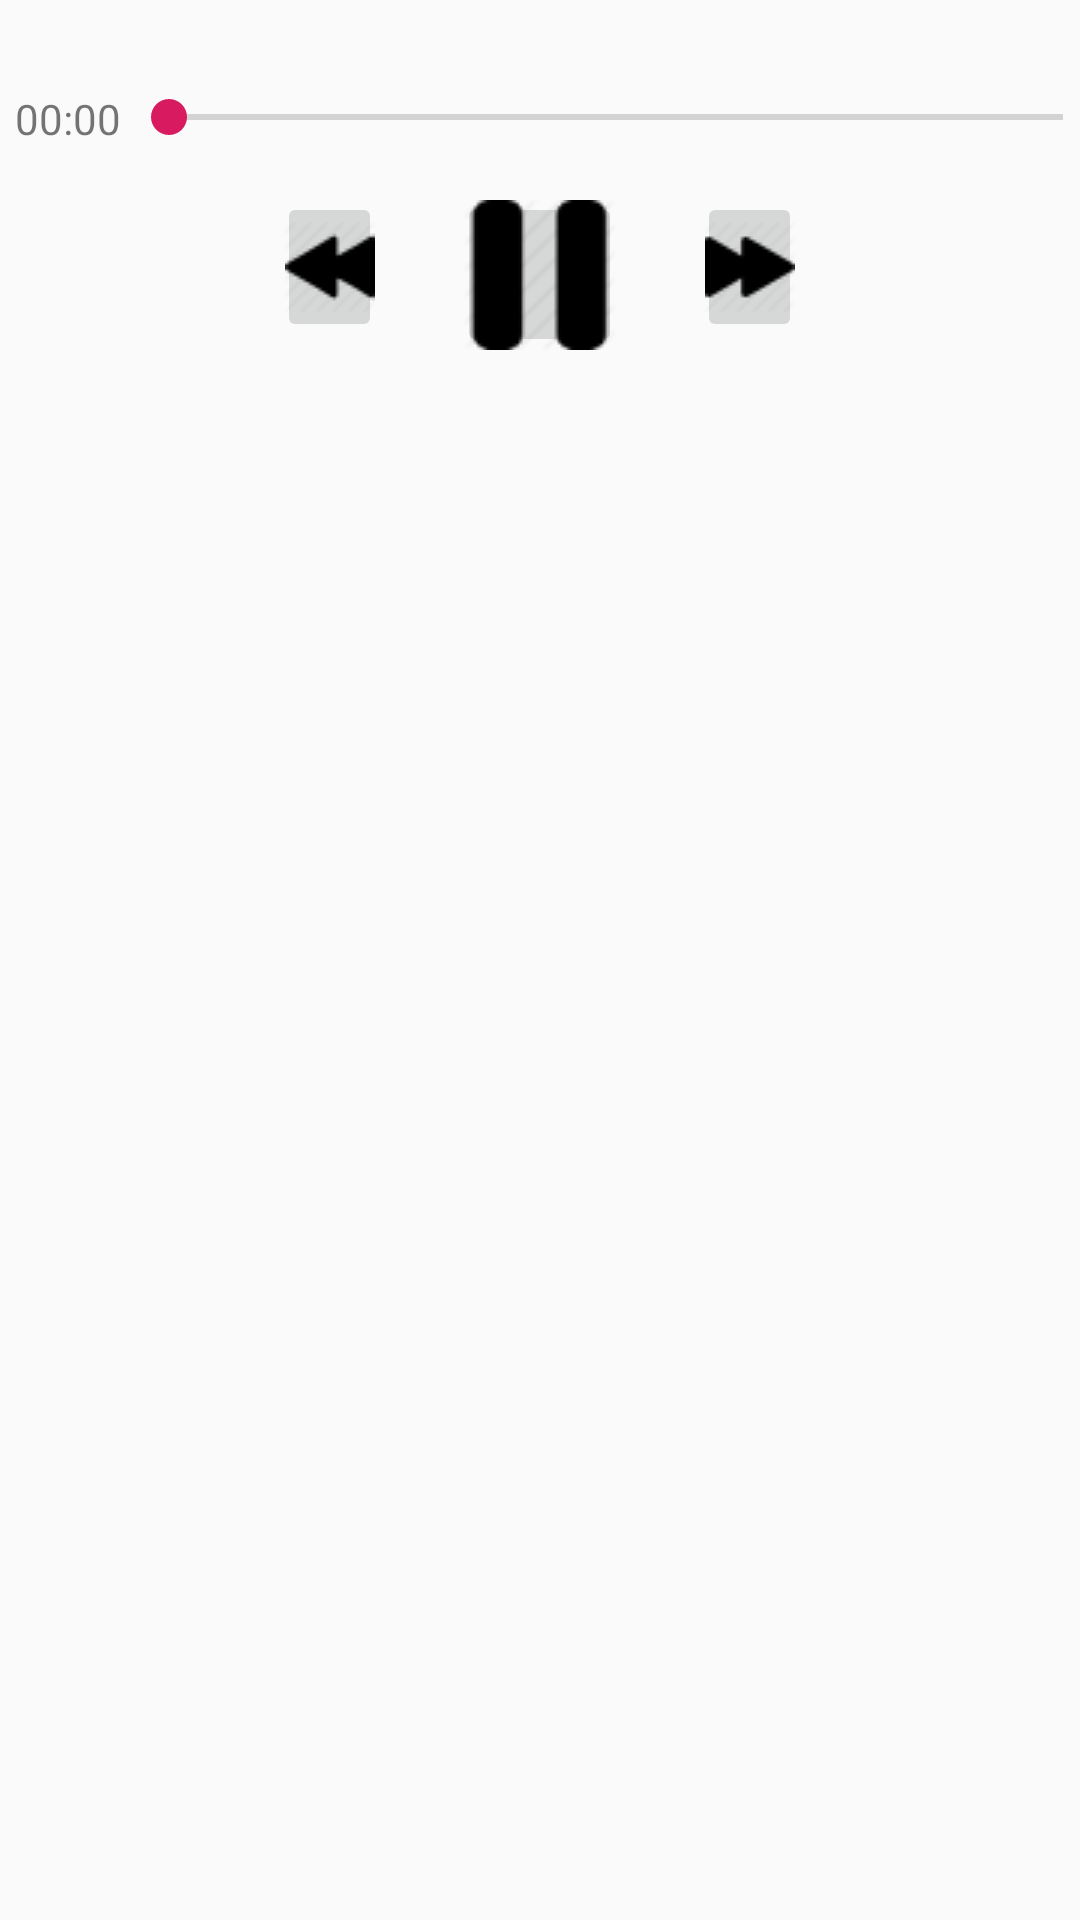

Locate icon controls on the screen. Image size 1080w x 1920h, boxes as (x1, y1, x2, y2).
next: (705, 210, 795, 324)
pause: (469, 200, 610, 350)
prev: (285, 210, 375, 324)
